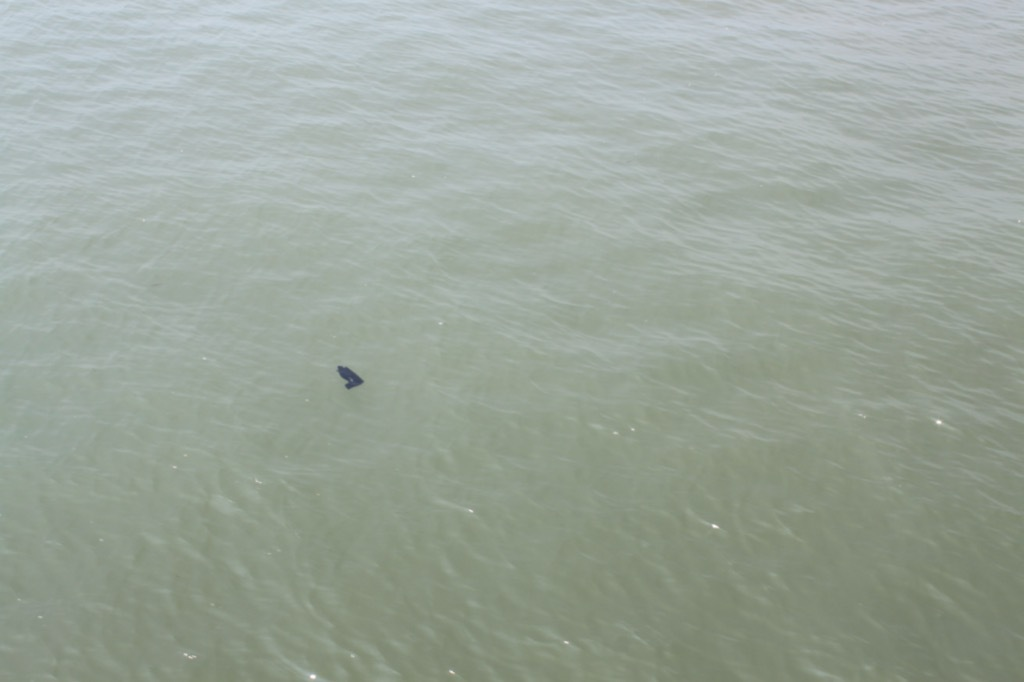plastic: (329, 357, 369, 397)
